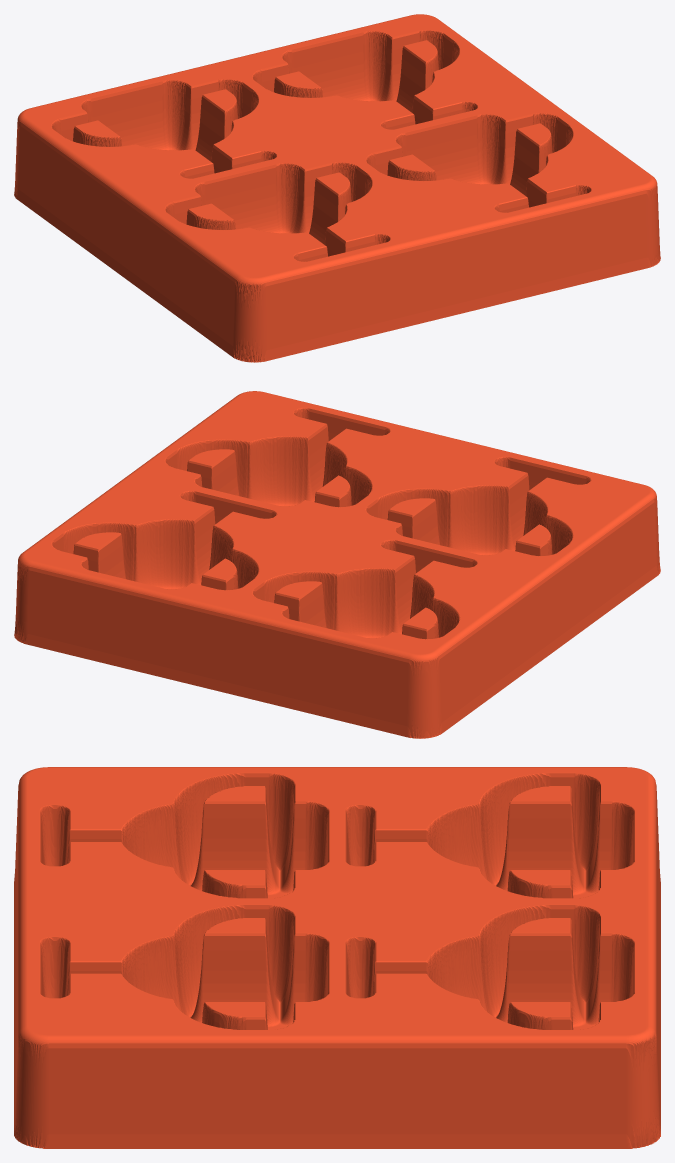
The model's file is mold.glb.
The picture shows the model from 3 angles, top to bottom: view 1: azimuth 30°, elevation 25°; view 2: azimuth 150°, elevation 25°; view 3: azimuth 270°, elevation 25°; orthographic projection. The views are drawn at different scales.
Parts seen in each view (by area): view 1: geometry_0; view 2: geometry_0; view 3: geometry_0.
Part boxes in pixels (x1,y1,x2,y2): geometry_0: [14, 14, 660, 362]; geometry_0: [14, 391, 660, 738]; geometry_0: [14, 767, 660, 1148].
Bounding box in the file's own units: 0.1721 × 0.031 × 0.1687.
